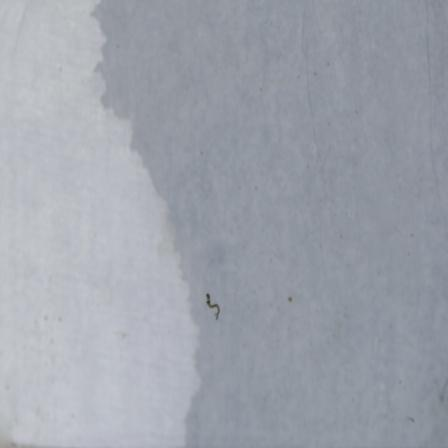Jentik-Nyamuk: (200, 289, 227, 325)
